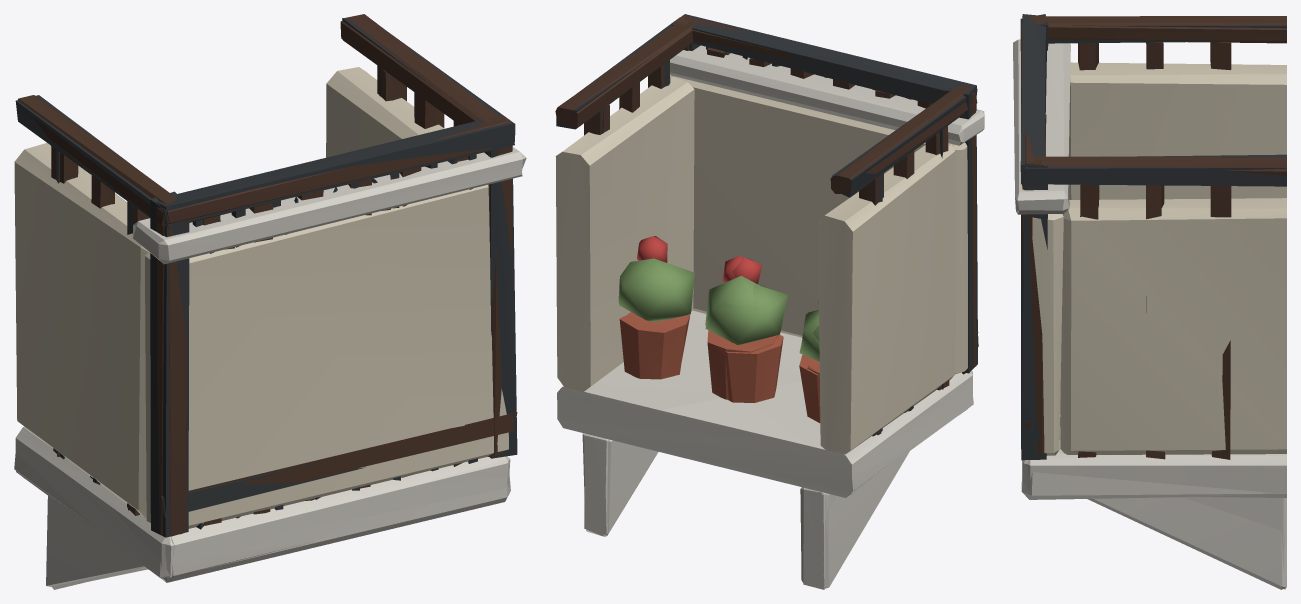
Rendered from balcony.glb.
3 renders of one model, left to right at view 1: azimuth 30°, elevation 25°; view 2: azimuth 150°, elevation 25°; view 3: azimuth 270°, elevation 25°, orthographic. The views are drawn at different scales.
Visible parts, largest first — view 1: balcony.v2.mesh, balcony.v0.mesh, balcony.v1.mesh; view 2: balcony.v2.mesh, balcony.v0.mesh, balcony.v1.mesh; view 3: balcony.v2.mesh, balcony.v0.mesh, balcony.v1.mesh.
Part boxes in pixels (box(x1,y1,x2,y2)): balcony.v2.mesh: box(14, 67, 526, 582); balcony.v0.mesh: box(14, 14, 517, 586); balcony.v1.mesh: box(15, 17, 517, 589); balcony.v2.mesh: box(555, 45, 984, 589); balcony.v0.mesh: box(555, 15, 978, 588); balcony.v1.mesh: box(556, 14, 978, 582); balcony.v2.mesh: box(1013, 39, 1286, 589); balcony.v0.mesh: box(1020, 16, 1286, 589); balcony.v1.mesh: box(1020, 14, 1286, 588).
Bounding box in the file's own units: 0.9645 × 1.25 × 0.7053.
